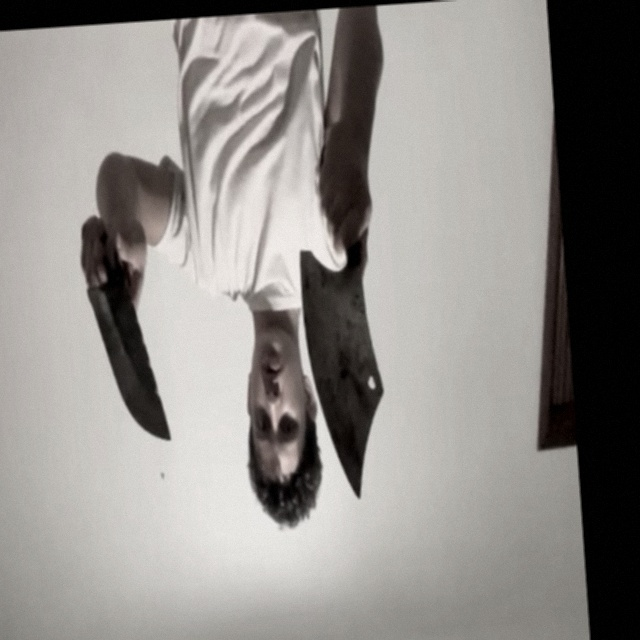Sharp-Object: (298, 247, 393, 507), (87, 283, 172, 449)
